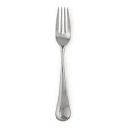Fork: (48, 7, 83, 122)
